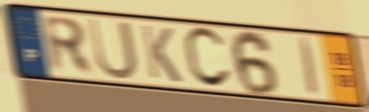6: (228, 27, 281, 97)
C: (181, 25, 234, 91)
I: (296, 36, 323, 100)
K: (138, 23, 184, 86)
R: (38, 13, 97, 78)
U: (86, 16, 140, 82)
